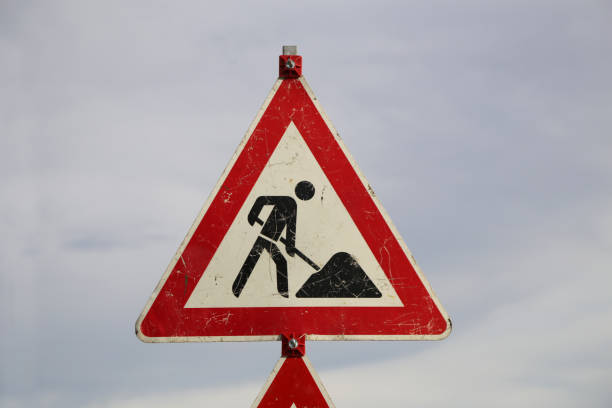yol_calismasi_levha: (136, 62, 453, 342)
